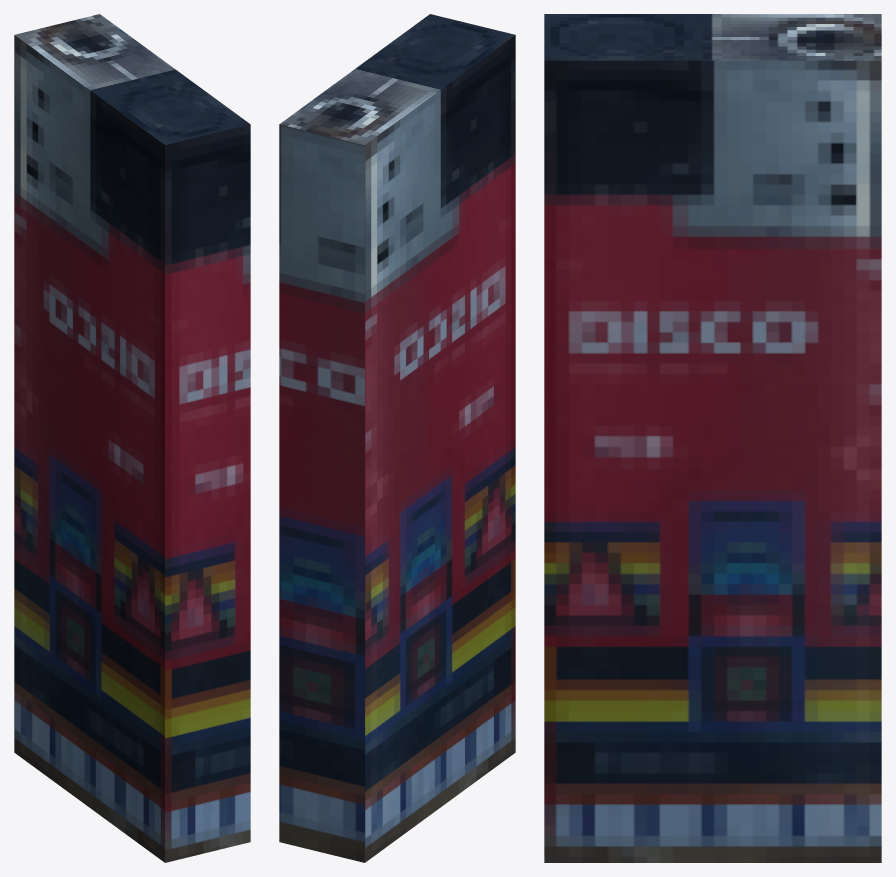
File: lighter.glb
3 views of the same model, side by side, from view 1: azimuth 30°, elevation 25°; view 2: azimuth 150°, elevation 25°; view 3: azimuth 270°, elevation 25° (orthographic). The views are drawn at different scales.
Visible parts, largest first — view 1: lighter; view 2: lighter; view 3: lighter.
Boxes of the visible parts, x1,y1,x2,y2 form: lighter: (14,14,250,862); lighter: (279,14,515,862); lighter: (544,14,881,862).
Bounding box in the file's own units: 5.66 × 45.4 × 17.29.
1 material, 1 textured.
